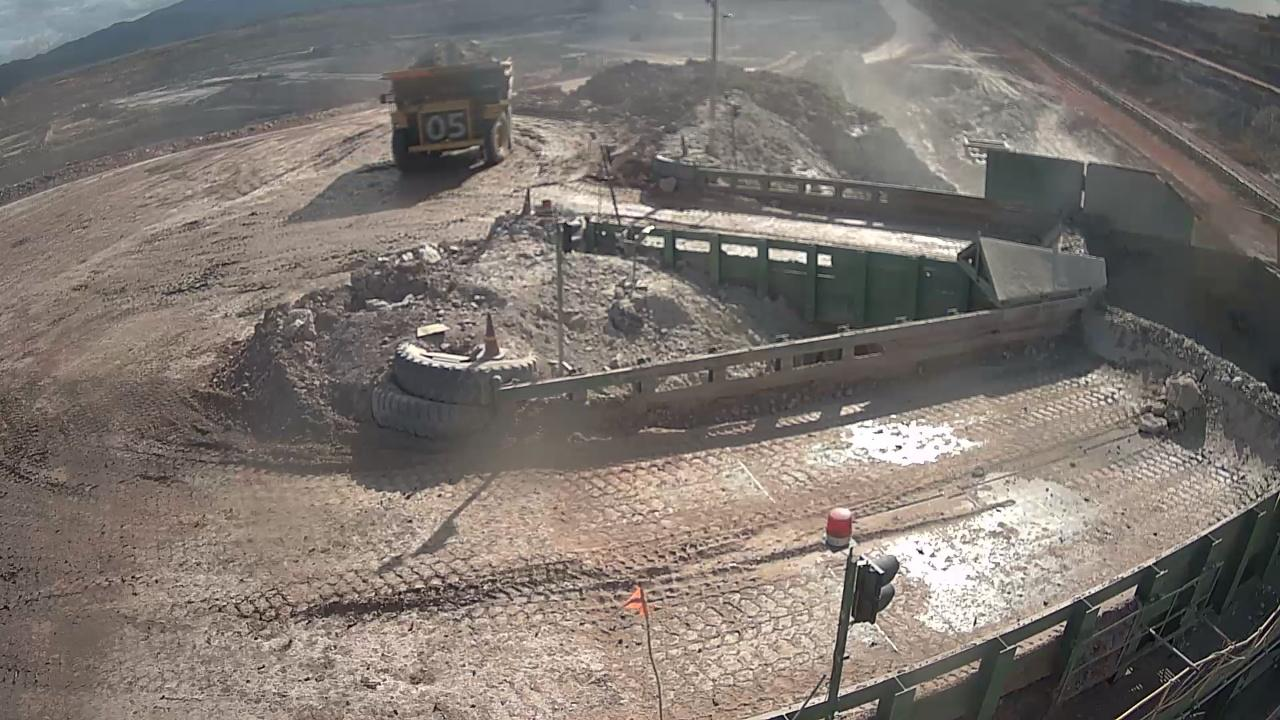front_number: (422, 107, 478, 146)
mining_truck: (377, 44, 515, 170)
